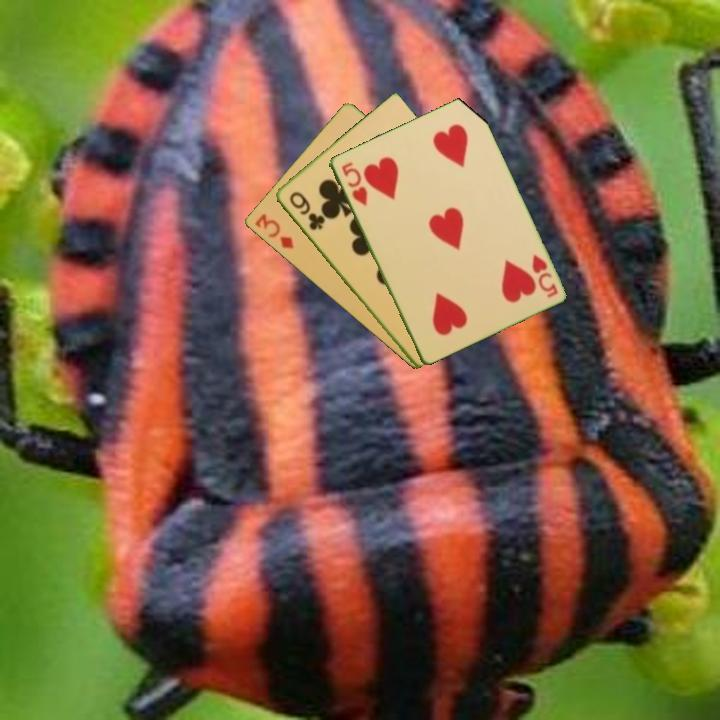3d: (251, 210, 296, 252)
5h: (338, 158, 370, 209), (528, 251, 560, 300)
9c: (285, 188, 327, 233)
